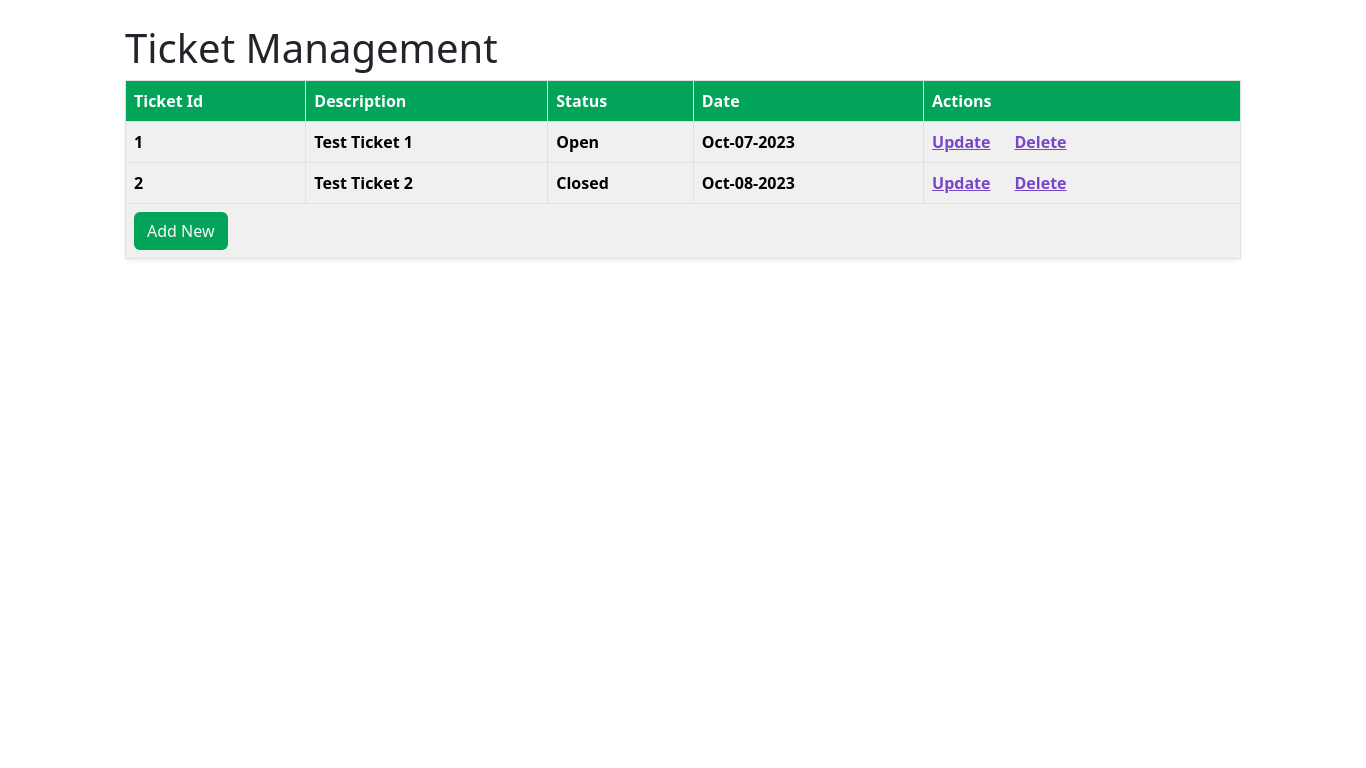
Test: TicketList Component › cancels delete operation when modal cancel is clicked
This screenshot has width=1366, height=768.
Note: Open the delete modal
Click the link "Delete" in the row of "Test Ticket 1" at (1040, 142), box [1014,131,1066,153]
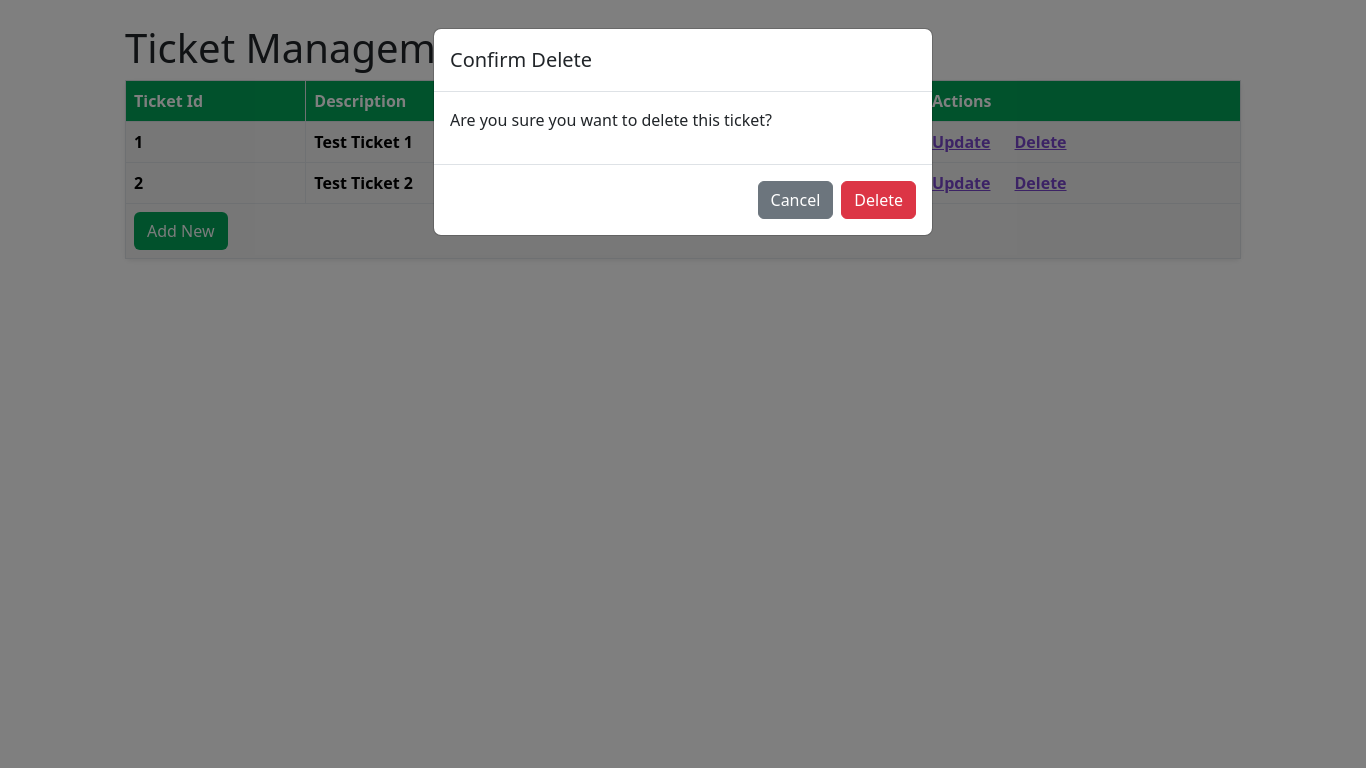
Note: Click the Cancel button in the modal
Click the button "Cancel" at (795, 200), box [758,181,833,219]
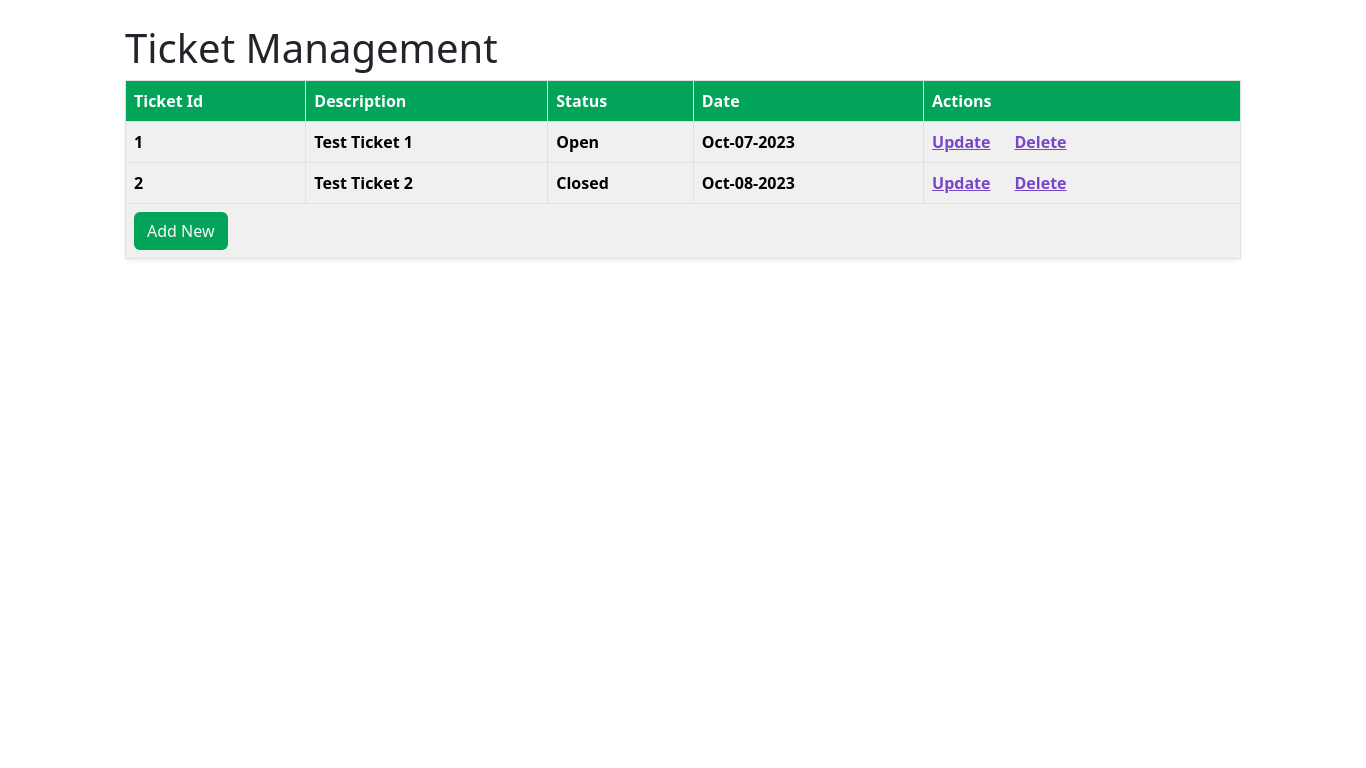
Check: the heading "Confirm Delete" is gone
